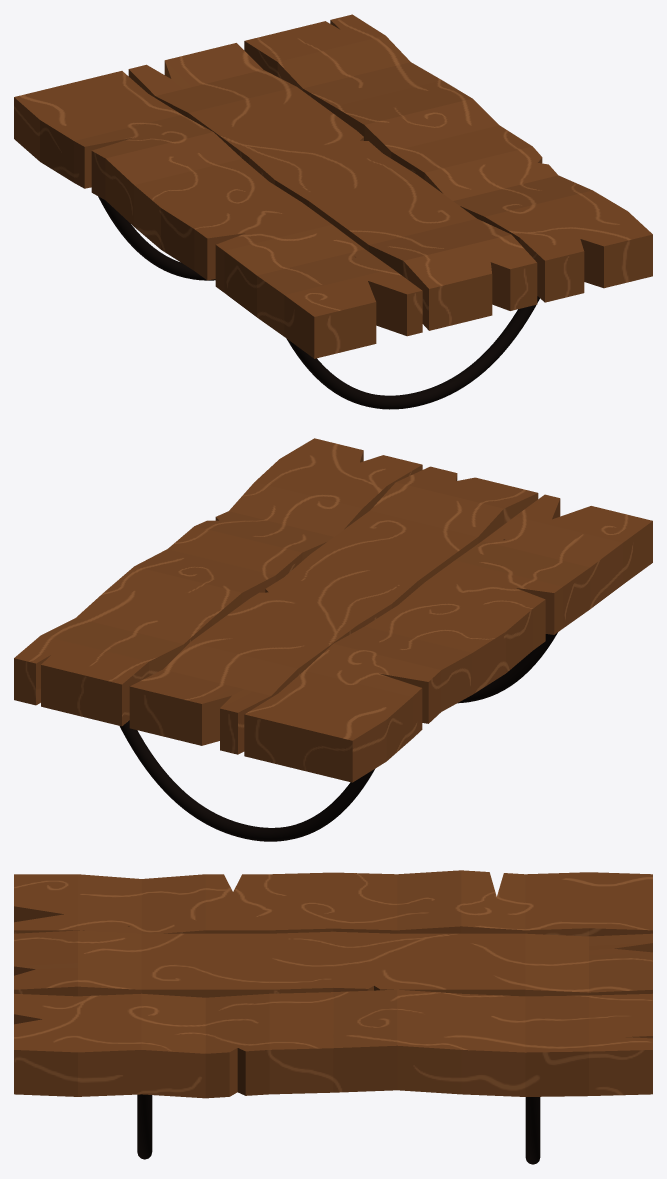
The model's file is Drewniany Karwasz.fbx.
3 views of the same model, one above another, from view 1: azimuth 30°, elevation 25°; view 2: azimuth 150°, elevation 25°; view 3: azimuth 270°, elevation 25° (orthographic). The views are drawn at different scales.
Visible parts, largest first — view 1: Cube, Cube.002, Cube.001, NurbsCurve, NurbsCurve.001; view 2: Cube, Cube.002, Cube.001, NurbsCurve.001, NurbsCurve; view 3: Cube.002, Cube.001, Cube, NurbsCurve.001, NurbsCurve.
Boxes of the visible parts, x1,y1,x2,y2 form: Cube: (14, 71, 422, 358); Cube.002: (244, 14, 652, 302); Cube.001: (128, 43, 537, 330); NurbsCurve: (286, 296, 539, 409); NurbsCurve.001: (98, 196, 215, 280); Cube: (244, 494, 652, 782); Cube.002: (14, 438, 422, 726); Cube.001: (129, 466, 538, 754); NurbsCurve.001: (119, 720, 375, 841); NurbsCurve: (457, 632, 557, 703); Cube.002: (14, 989, 652, 1098); Cube.001: (14, 930, 652, 997); Cube: (14, 870, 652, 936); NurbsCurve.001: (525, 1097, 540, 1164); NurbsCurve: (137, 1094, 152, 1159).
Bounding box in the file's own units: 347 × 175 × 520.
Materials: 2 (2 with a texture image).
